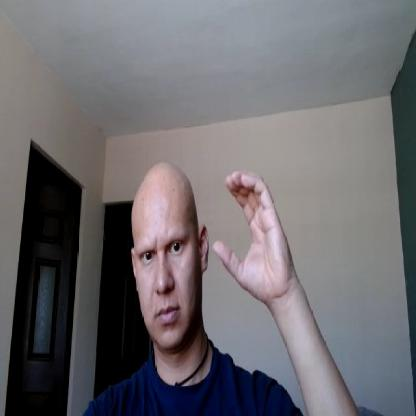C: (211, 168, 292, 301)
